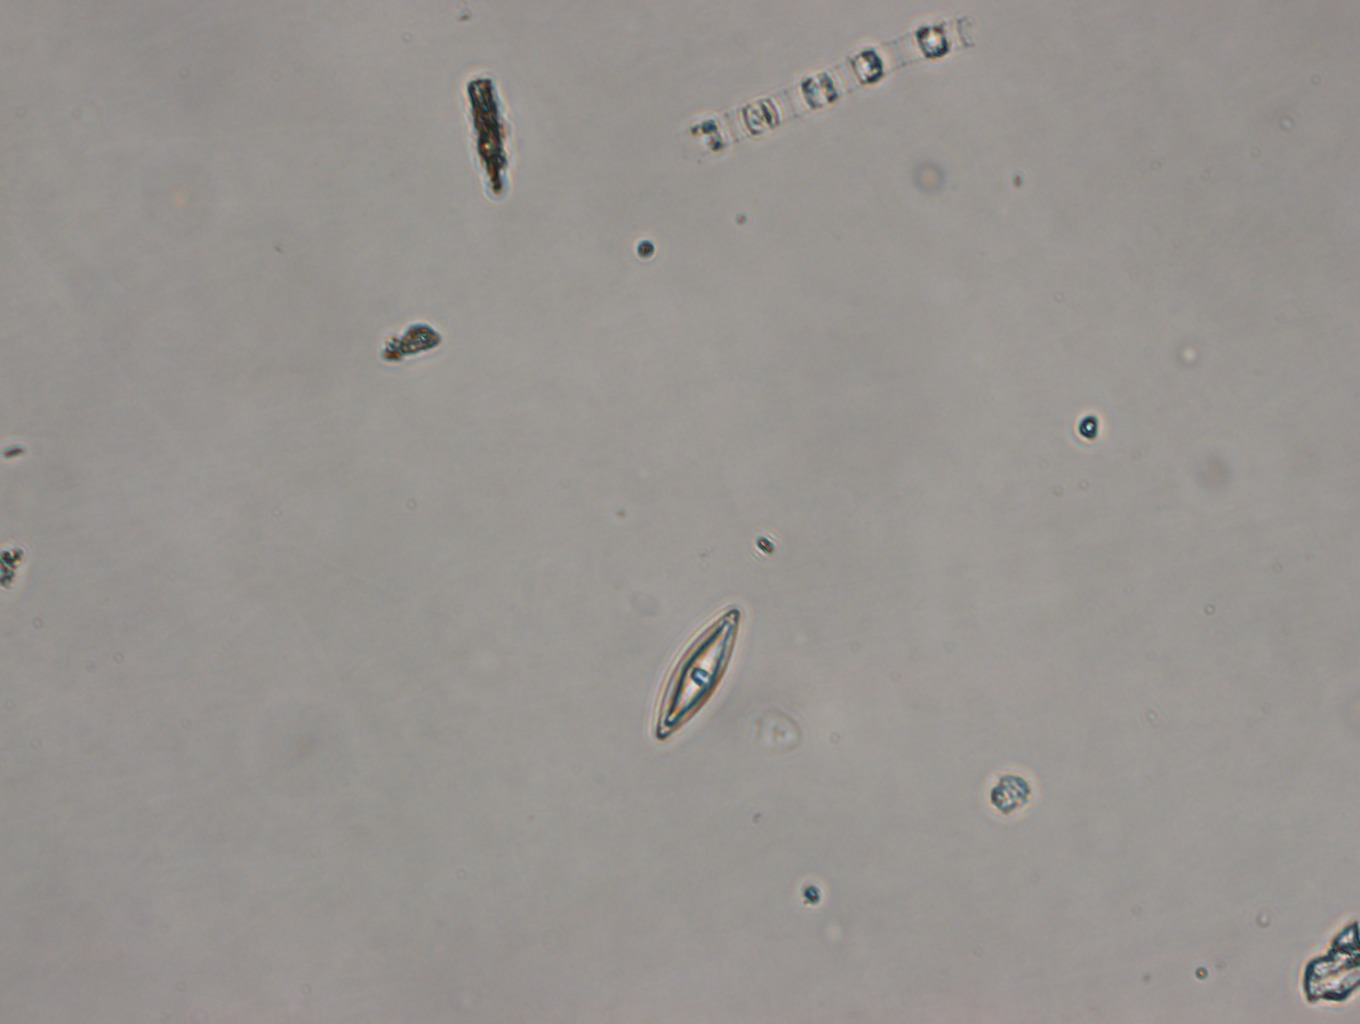navicula: (638, 597, 756, 751)
skeletonema: (687, 10, 991, 160)
